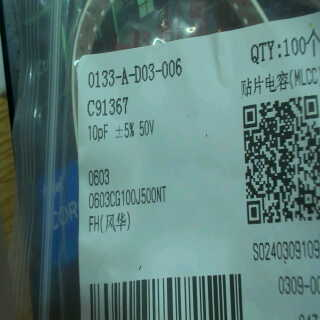10pF: (86, 119, 112, 147)
